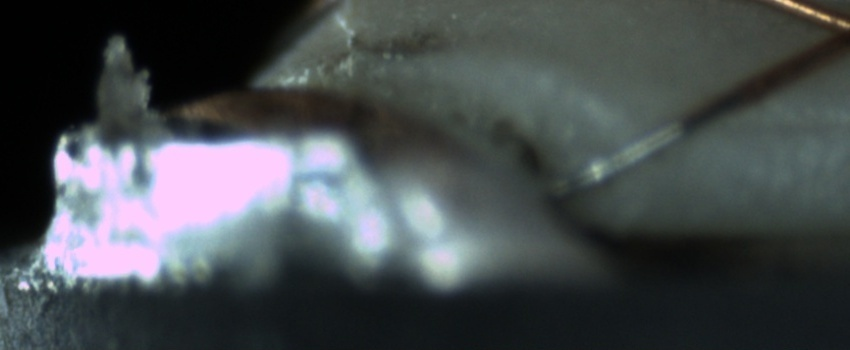CL: (800, 1, 850, 63)
DL: (699, 93, 849, 158)
TB: (573, 149, 622, 194)
TS: (551, 114, 687, 202)
TTCW: (546, 90, 725, 203)
